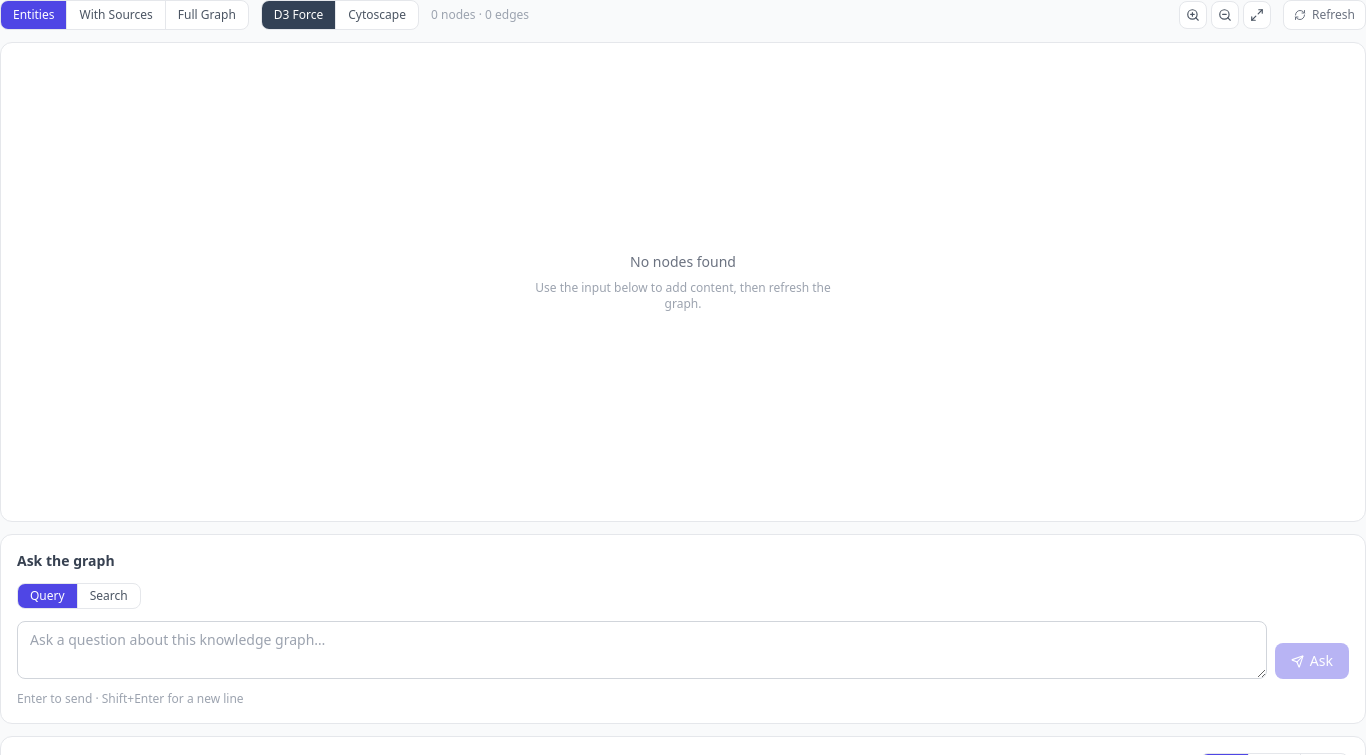
KGGraph search playground › shows the API error detail inline
Click the button "Search".
click(109, 596)  # box [78,584,140,608]
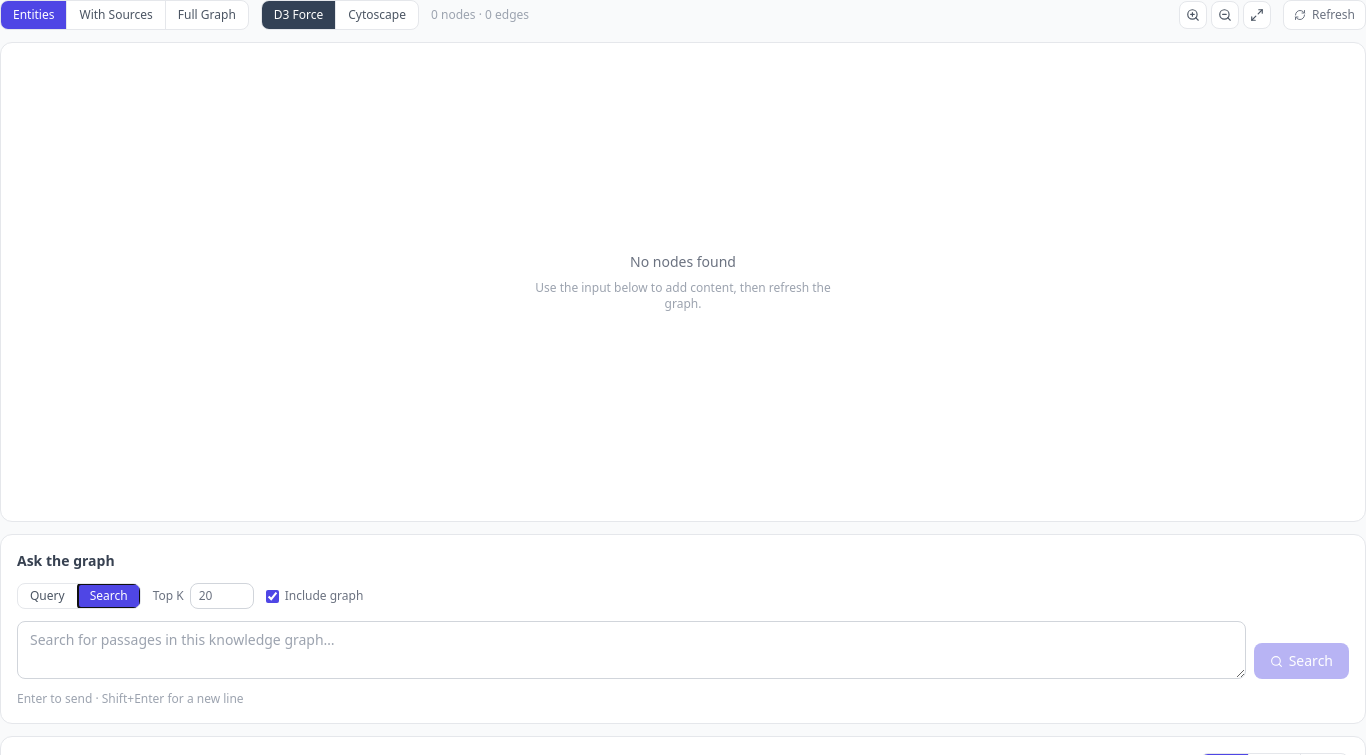
Type "anything" into the text box with placeholder "Search for passages in this knowledge graph…".
click(631, 650); type("anything")  # box [17,621,1246,679]
Then press Enter
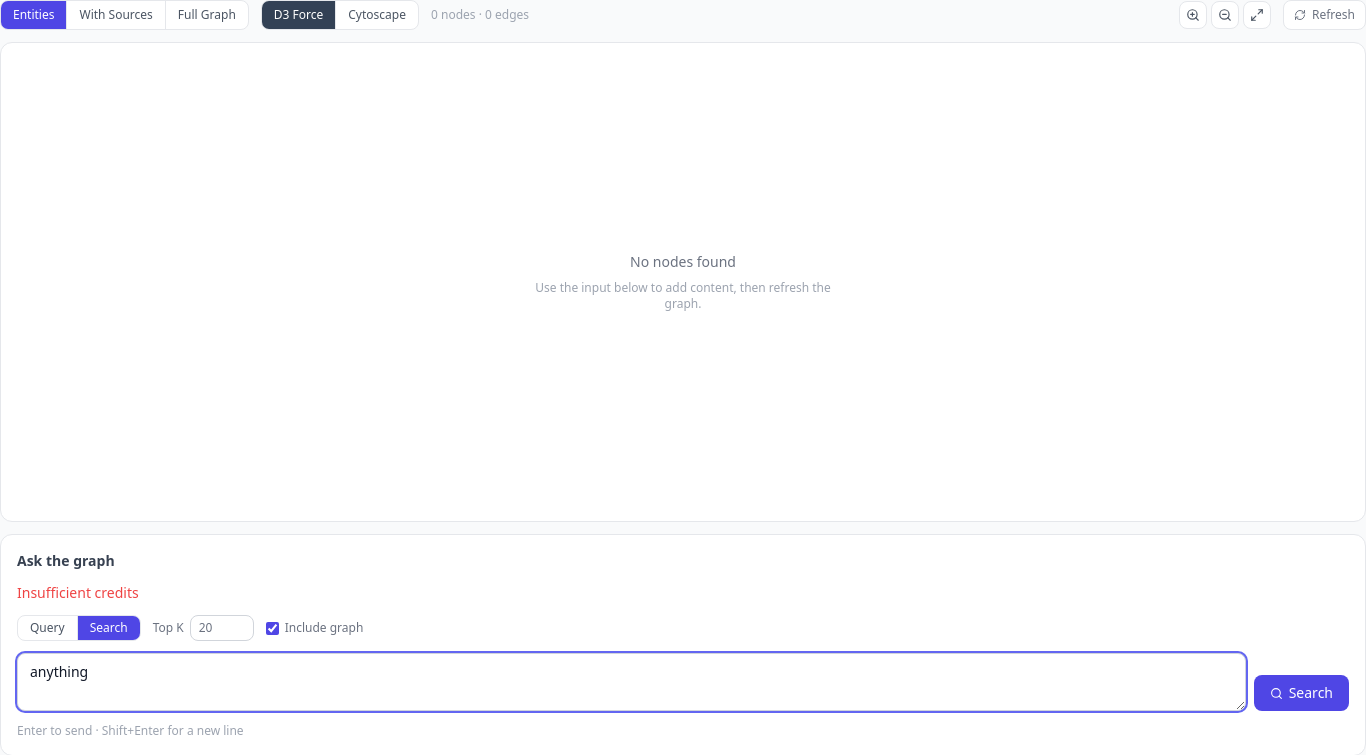
Check: the text "Insufficient credits" is shown, box [17,583,139,602]
